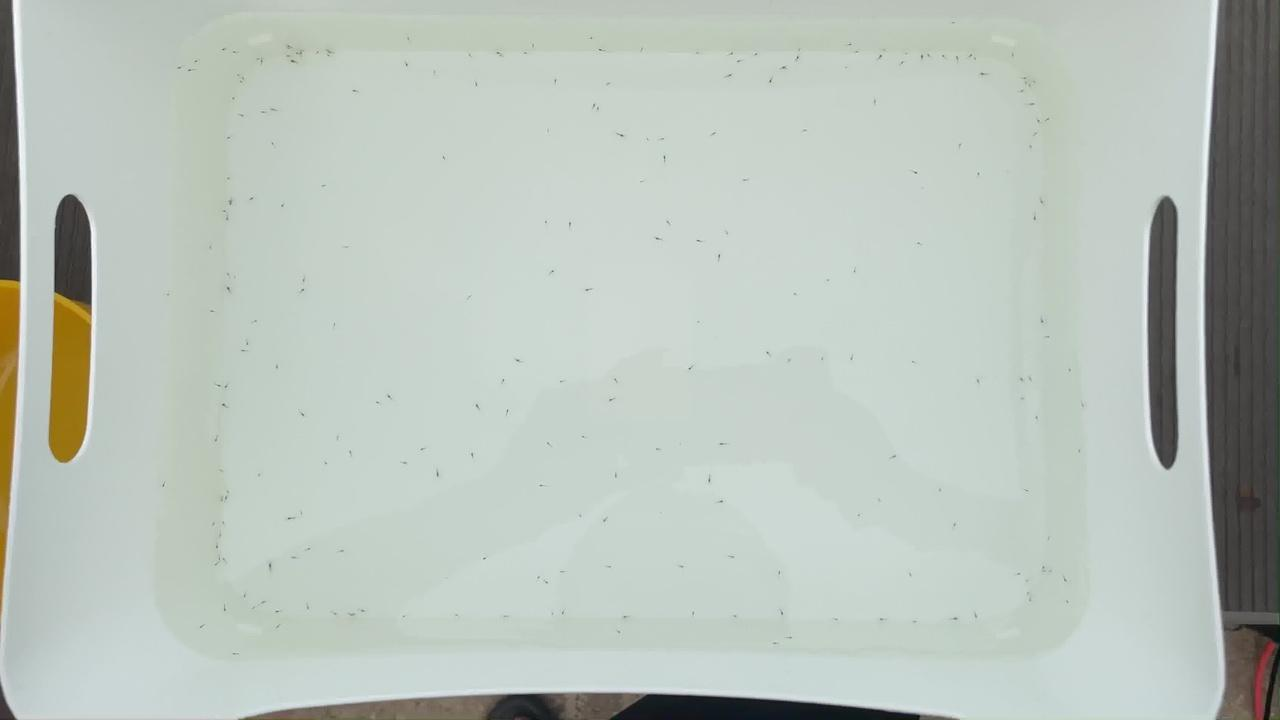shrimp: (1060, 578, 1073, 586), (1061, 595, 1074, 603), (1064, 367, 1077, 375), (974, 378, 987, 386), (1035, 196, 1048, 204), (1026, 146, 1039, 154), (964, 52, 977, 60), (925, 52, 938, 60), (783, 633, 796, 641), (688, 606, 701, 614), (703, 473, 716, 481), (716, 439, 729, 447), (693, 312, 706, 320), (691, 240, 704, 248), (471, 79, 484, 87), (321, 52, 334, 60), (281, 41, 294, 49), (224, 135, 237, 143), (220, 213, 233, 221), (243, 196, 256, 204), (371, 163, 384, 171), (298, 274, 311, 282), (564, 218, 577, 226), (606, 395, 619, 403), (514, 356, 527, 364), (467, 401, 480, 409), (210, 434, 223, 442), (217, 606, 230, 614), (200, 622, 213, 630), (362, 606, 375, 614), (613, 628, 626, 636), (610, 473, 623, 481), (572, 511, 585, 519), (600, 522, 613, 530), (602, 567, 615, 575), (1022, 589, 1034, 597), (1039, 561, 1051, 569), (790, 295, 802, 303), (956, 140, 968, 148), (1028, 129, 1040, 137), (939, 52, 951, 60), (839, 63, 851, 71), (795, 46, 807, 54), (723, 74, 735, 82), (751, 418, 763, 426), (297, 46, 309, 54), (286, 57, 298, 65), (253, 57, 265, 65), (236, 79, 248, 87), (1023, 600, 1036, 607), (1013, 570, 1026, 577), (971, 613, 984, 620), (947, 616, 960, 623), (907, 615, 920, 622), (905, 570, 918, 577), (950, 520, 963, 527), (935, 485, 948, 492), (872, 494, 885, 501), (853, 516, 866, 523), (888, 449, 901, 456), (1024, 487, 1037, 494), (1072, 446, 1085, 453), (1079, 401, 1092, 408), (1029, 417, 1042, 424), (1023, 378, 1036, 385), (1038, 313, 1051, 320), (842, 352, 855, 359), (817, 354, 830, 361), (784, 355, 797, 362), (765, 348, 778, 355), (824, 277, 837, 284), (848, 268, 861, 275), (916, 240, 929, 247), (909, 169, 922, 176), (974, 173, 987, 180), (1041, 119, 1054, 126), (1030, 116, 1043, 123), (1028, 101, 1041, 108), (1015, 84, 1028, 91), (1027, 82, 1040, 89), (1021, 78, 1034, 85), (1019, 72, 1032, 79), (1007, 50, 1020, 57), (977, 72, 990, 79), (971, 55, 984, 62), (895, 59, 908, 66), (879, 47, 892, 54), (852, 49, 865, 56), (841, 42, 854, 49), (870, 100, 883, 107), (793, 55, 806, 62), (768, 76, 781, 83), (727, 49, 740, 56), (694, 50, 707, 57), (798, 126, 811, 133), (705, 132, 718, 139), (769, 640, 782, 647), (732, 609, 745, 616), (674, 566, 687, 573), (726, 555, 739, 562), (715, 496, 728, 503), (685, 363, 698, 370), (712, 250, 725, 257), (722, 225, 735, 232), (651, 237, 664, 244), (657, 132, 670, 139), (642, 136, 655, 143), (592, 107, 605, 114), (585, 103, 598, 110), (601, 82, 614, 89), (597, 46, 610, 53), (587, 32, 600, 39), (637, 44, 650, 51), (547, 83, 560, 90), (543, 129, 556, 136), (529, 44, 542, 51), (520, 47, 533, 54), (493, 49, 506, 56), (466, 51, 479, 58), (439, 155, 452, 162), (401, 61, 414, 68), (406, 36, 419, 43), (349, 86, 362, 93), (325, 44, 338, 51), (293, 47, 306, 54), (232, 51, 245, 58), (192, 57, 205, 64), (186, 67, 199, 74), (231, 72, 244, 79), (228, 96, 241, 103), (237, 112, 250, 119), (268, 138, 281, 145), (224, 171, 237, 178), (220, 204, 233, 211), (279, 200, 292, 207), (317, 180, 330, 187), (340, 240, 353, 247), (225, 286, 238, 293), (225, 269, 238, 276), (203, 243, 216, 250), (248, 317, 261, 324), (242, 339, 255, 346), (239, 349, 252, 356), (273, 362, 286, 369), (329, 320, 342, 327), (465, 294, 478, 301), (583, 282, 596, 289), (547, 266, 560, 273), (538, 216, 551, 223), (611, 375, 624, 382), (497, 376, 510, 383), (502, 413, 515, 420), (386, 392, 399, 399), (343, 449, 356, 456), (320, 457, 333, 464), (334, 432, 347, 439), (297, 411, 310, 418), (221, 380, 234, 387), (221, 401, 234, 408), (160, 481, 173, 488), (214, 468, 227, 475), (248, 473, 261, 480), (222, 488, 235, 495), (222, 493, 235, 500), (217, 496, 230, 503), (217, 514, 230, 521), (206, 517, 219, 524), (216, 531, 229, 538), (219, 558, 232, 565), (284, 514, 297, 521), (294, 511, 307, 518), (303, 547, 316, 554), (290, 555, 303, 562), (265, 561, 278, 568), (256, 597, 269, 604), (248, 605, 261, 612), (239, 587, 252, 594), (228, 651, 241, 658), (272, 625, 285, 632), (270, 608, 283, 615), (301, 602, 314, 609), (326, 611, 339, 618), (447, 611, 460, 618), (502, 612, 515, 619), (546, 611, 559, 618), (561, 610, 574, 617), (621, 614, 634, 621), (530, 574, 543, 581), (477, 554, 490, 561), (430, 471, 443, 478), (398, 460, 411, 467), (417, 445, 430, 452), (466, 454, 479, 461), (545, 442, 558, 449), (655, 447, 668, 454), (535, 483, 548, 490), (556, 564, 569, 571), (1022, 578, 1034, 585), (873, 613, 885, 620), (829, 614, 841, 621), (1045, 535, 1057, 542), (1017, 375, 1029, 382), (1044, 334, 1056, 341), (906, 358, 918, 365), (1028, 210, 1040, 217), (950, 56, 962, 63), (917, 50, 929, 57), (873, 52, 885, 59), (779, 63, 791, 70), (751, 49, 763, 56), (734, 59, 746, 66), (740, 176, 752, 183), (779, 609, 791, 616), (773, 565, 785, 572), (662, 215, 674, 222), (657, 155, 669, 162), (613, 132, 625, 139), (430, 71, 442, 78), (313, 48, 325, 55), (285, 50, 297, 57), (258, 56, 270, 63), (219, 47, 231, 54), (175, 62, 187, 69), (258, 107, 270, 114), (274, 106, 286, 113), (225, 194, 237, 201), (297, 290, 309, 297), (208, 304, 220, 311), (557, 380, 569, 387), (374, 399, 386, 406), (213, 384, 225, 391), (213, 542, 225, 549), (214, 560, 226, 567), (336, 553, 348, 560), (347, 611, 359, 618), (397, 613, 409, 620), (541, 579, 553, 586), (579, 434, 591, 441)
